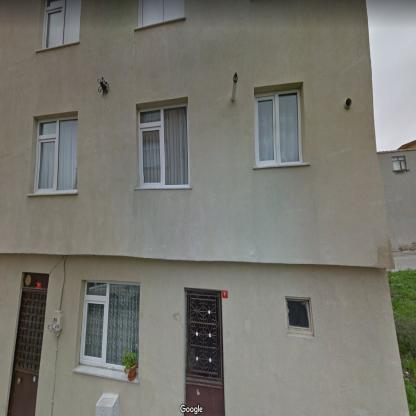door: (7, 290, 48, 416), (185, 294, 223, 416)
window: (82, 282, 138, 370), (140, 105, 189, 187), (257, 93, 301, 164), (36, 118, 78, 191), (44, 1, 79, 48), (141, 1, 184, 26), (287, 299, 310, 330), (392, 157, 406, 170)
